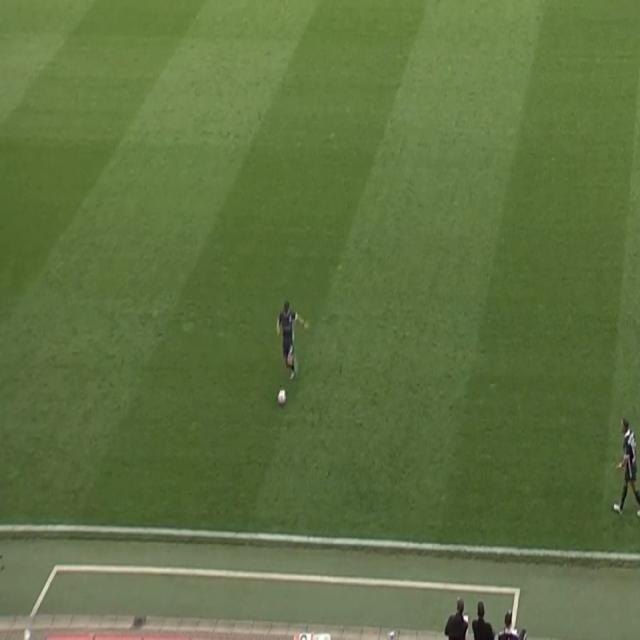ball: (277, 387, 286, 407)
